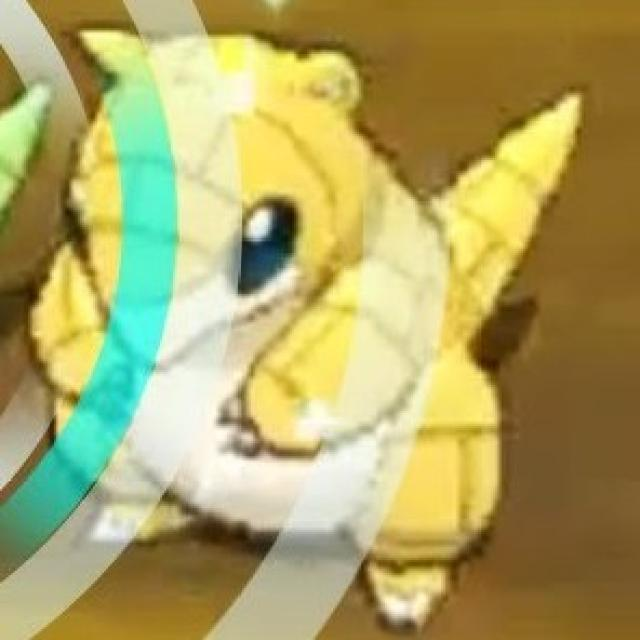Sandshrew: (29, 41, 528, 577)
